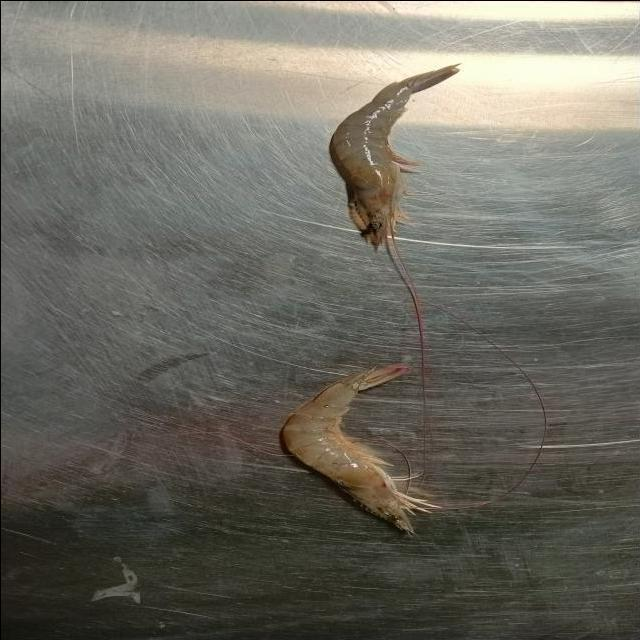shrimp: (329, 63, 460, 250), (281, 364, 418, 534)
